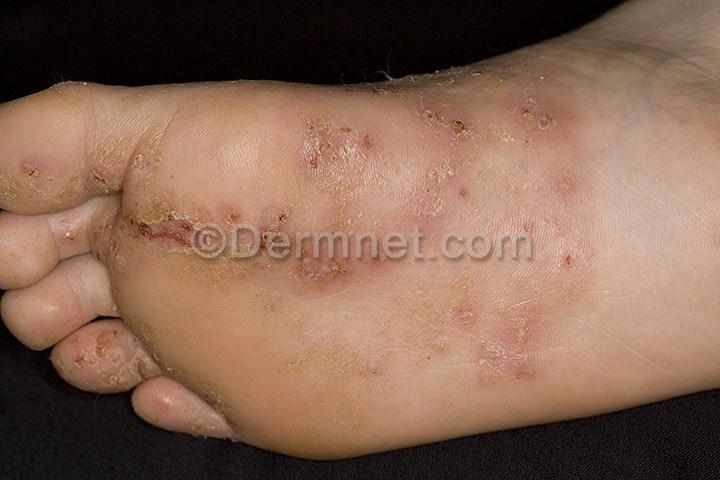Eczema: (139, 124, 372, 334), (397, 79, 572, 239), (442, 255, 583, 398), (0, 135, 62, 206), (80, 208, 136, 278), (81, 129, 130, 189), (80, 331, 131, 387)
